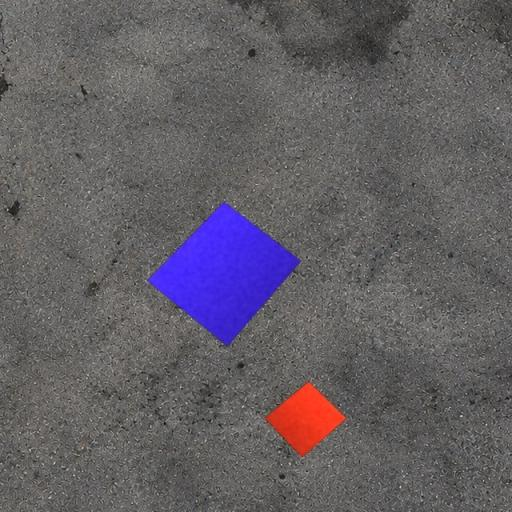BLUE_SQUARE: (146, 201, 302, 347)
RED_SQUARE: (264, 380, 348, 458)
